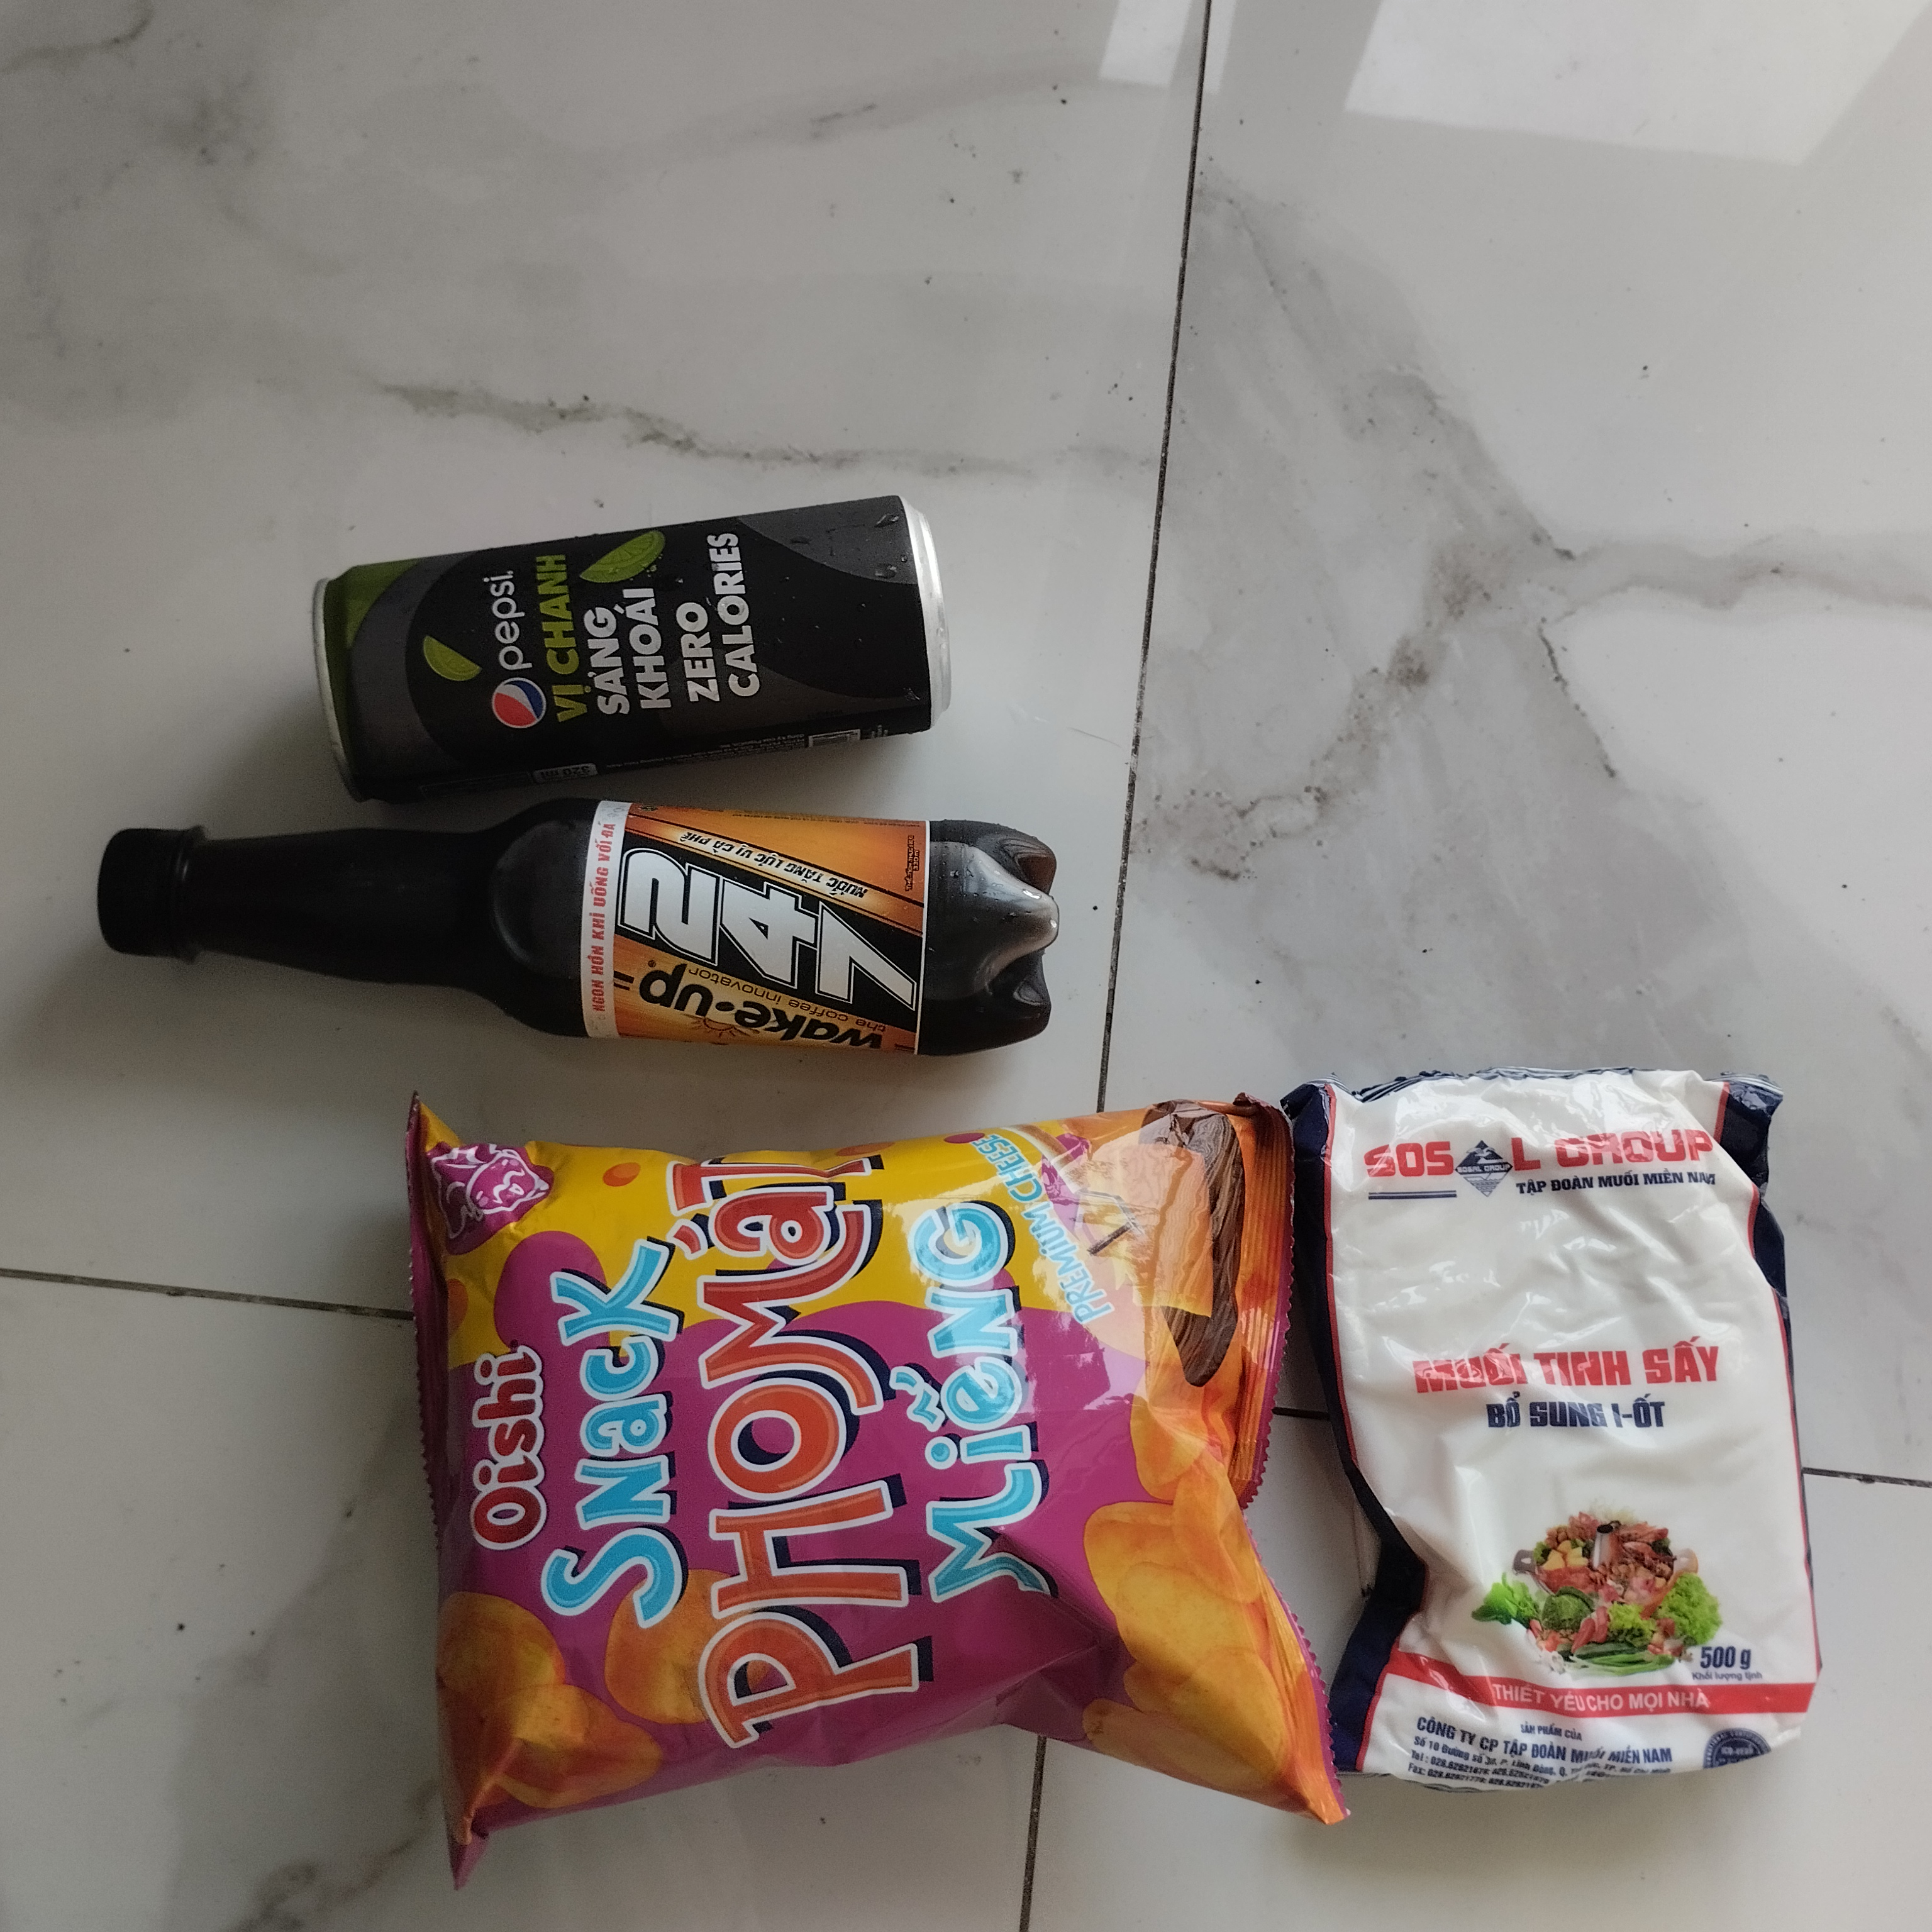247: (71, 775, 1104, 1100)
Oishi_phomat: (387, 1058, 1348, 1861)
Pepsi: (295, 460, 975, 807)
Salt: (1299, 1053, 1836, 1826)
